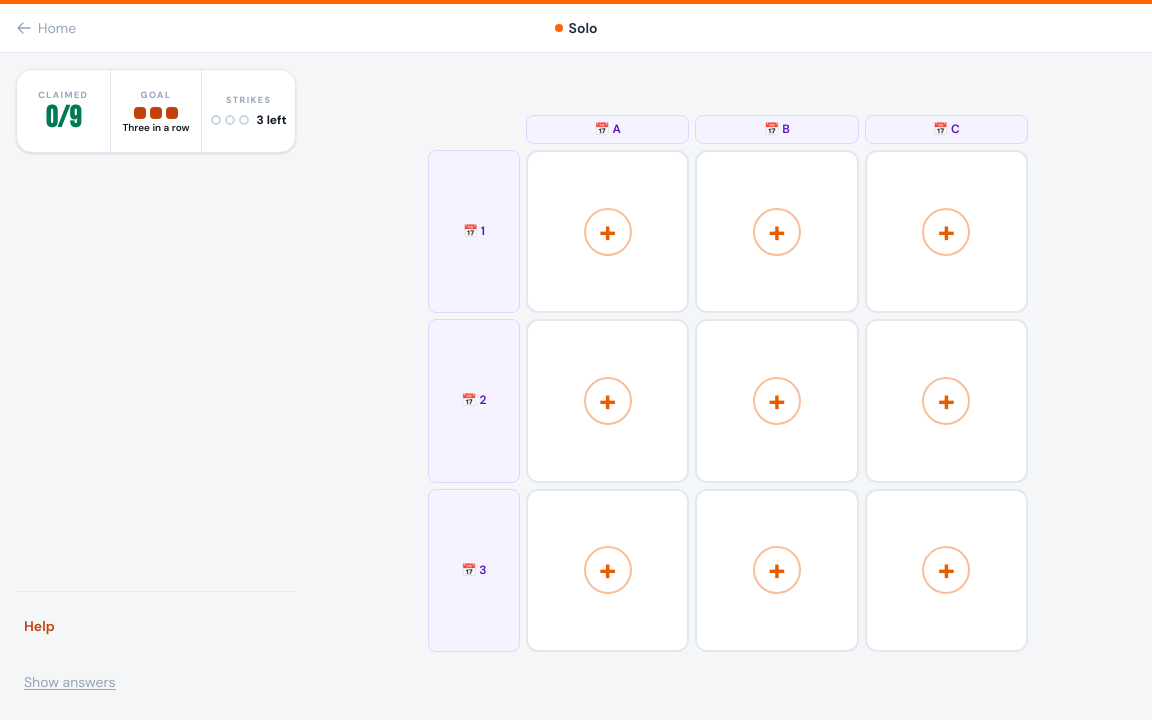
it: GameBoard solo stakes › uses Show answers to jump straight to the neutral result screen
Click the button "Show answers". click: [70, 682]
box: [16,660,124,704]
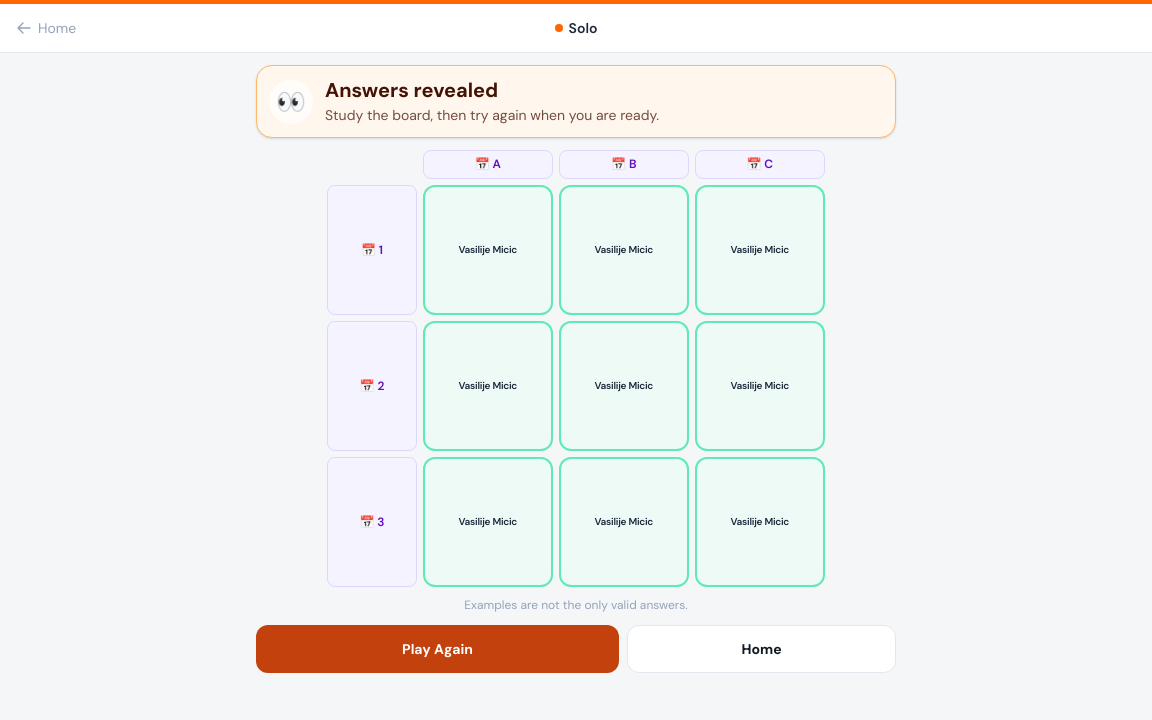
Result: the heading "Answers revealed" is shown at [325,77,498,103]
Result: the text "Examples are not the only valid answers." is shown at [464,597,688,613]
